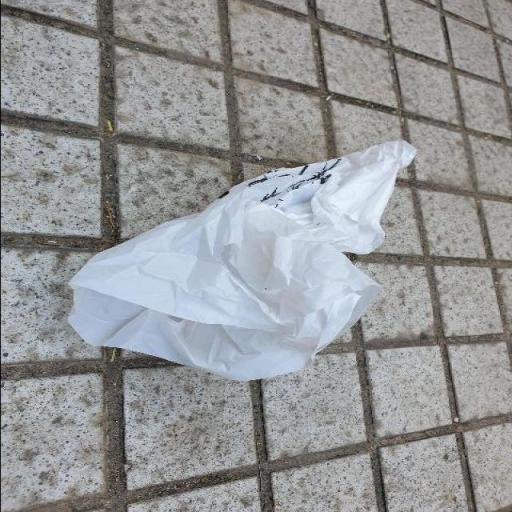plastic-bag: (64, 138, 418, 386)
